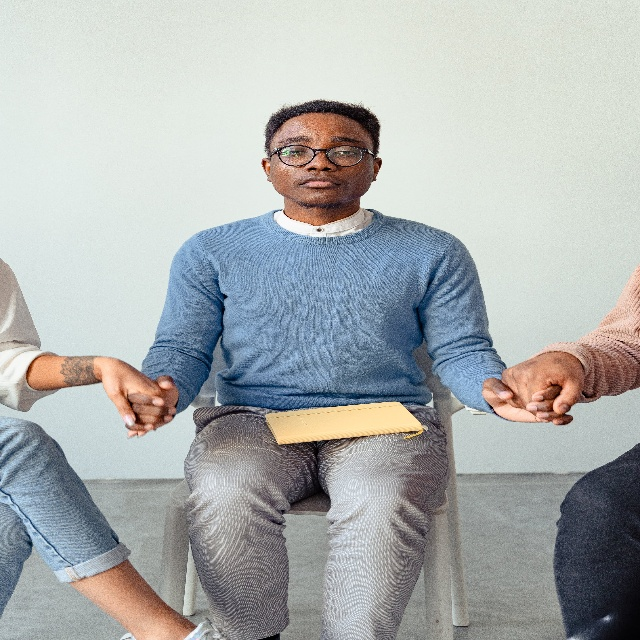Gafas: (269, 142, 376, 167)
Sin_guantes: (500, 345, 585, 416), (100, 352, 162, 439), (482, 376, 574, 429), (125, 372, 182, 432)
